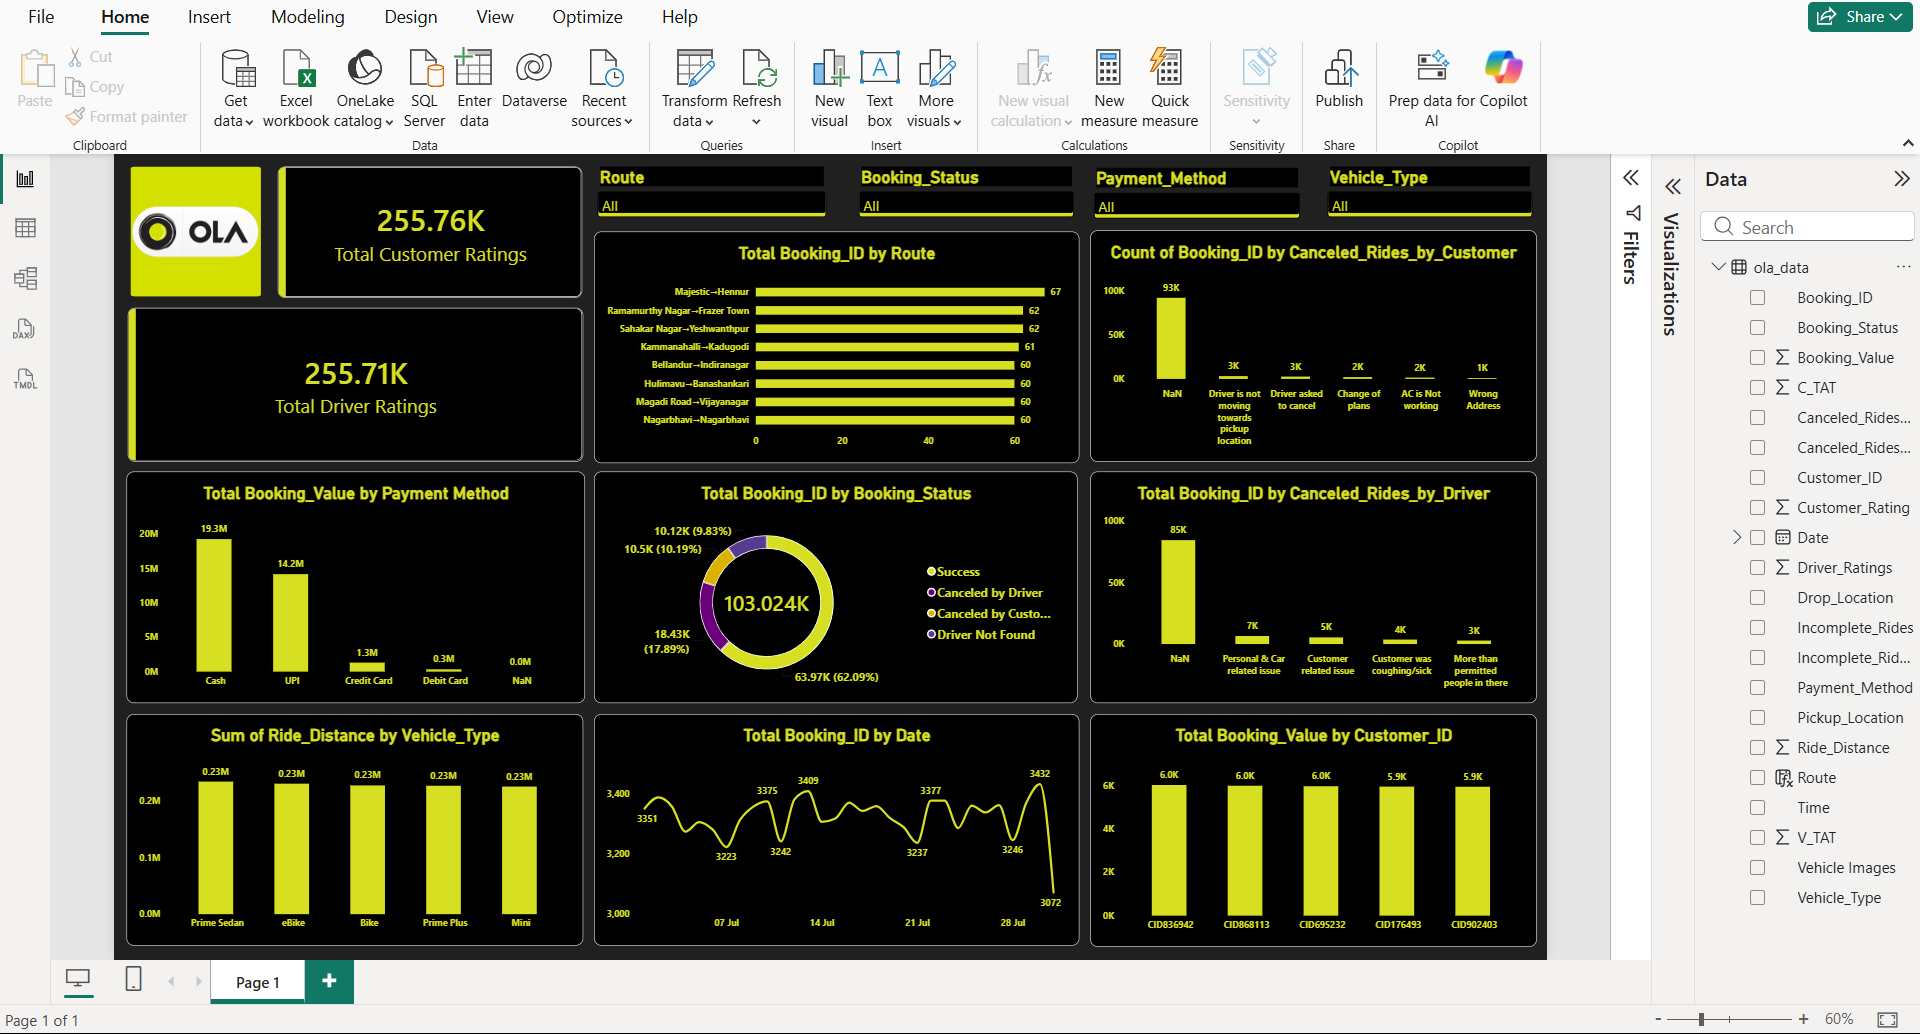

What the dashboard file says about the page in this screenshot:
{"tool":"powerbi","page":{"name":"Page 1","canvas":[1920,1080],"ordinal":0},"visuals":[{"type":"lineChart","title":"Total Booking_ID by Date","fields":{"Y":["CountNonNull(ola_data.Booking_ID)"],"Category":["ola_data.Date.Variation.Date Hierarchy.Year","ola_data.Date.Variation.Date Hierarchy.Quarter","ola_data.Date.Variation.Date Hierarchy.Month","ola_data.Date.Variation.Date Hierarchy.Day"]},"box":[644,750,650,310],"z":0},{"type":"donutChart","title":"Total Booking_ID by Booking_Status","fields":{"Category":["ola_data.Booking_Status"],"Y":["CountNonNull(ola_data.Booking_ID)"]},"box":[644,426,648,310],"z":1000},{"type":"slicer","fields":{"Values":["ola_data.Vehicle_Type"]},"box":[1622,16,284,70],"z":2000},{"type":"clusteredColumnChart","fields":{"Y":["Sum(ola_data.Ride_Distance)"],"Category":["ola_data.Vehicle_Type"]},"box":[16,750,612,310],"z":3000},{"type":"columnChart","title":"Total Booking_Value by Payment Method","fields":{"Y":["Sum(ola_data.Booking_Value)"],"Category":["ola_data.Payment_Method"]},"box":[16,426,614,310],"z":4000},{"type":"clusteredColumnChart","title":"Total Booking_Value by Customer_ID","fields":{"Y":["Sum(ola_data.Booking_Value)"],"Category":["ola_data.Customer_ID"]},"box":[1308,750,598,312],"z":5000},{"type":"cardVisual","fields":{"Data":["Sum(ola_data.Driver_Ratings)"]},"box":[18,206,610,206],"z":6000},{"type":"cardVisual","fields":{"Data":["Sum(ola_data.Customer_Rating)"]},"box":[220,16,408,176],"z":7000},{"type":"columnChart","fields":{"Category":["ola_data.Canceled_Rides_by_Customer"],"Y":["CountNonNull(ola_data.Booking_ID)"]},"box":[1308,102,598,310],"z":8000},{"type":"columnChart","title":"Total Booking_ID by Canceled_Rides_by_Driver","fields":{"Category":["ola_data.Canceled_Rides_by_Driver"],"Y":["CountNonNull(ola_data.Booking_ID)"]},"box":[1308,426,598,310],"z":9000},{"type":"slicer","fields":{"Values":["ola_data.Booking_Status"]},"box":[994,16,298,70],"z":10000},{"type":"slicer","fields":{"Values":["ola_data.Payment_Method"]},"box":[1308,18,286,70],"z":11000},{"type":"clusteredBarChart","title":"Total Booking_ID by Route","fields":{"Category":["ola_data.Route"],"Y":["CountNonNull(ola_data.Booking_ID)"]},"box":[644,104,650,310],"z":12000},{"type":"slicer","fields":{"Values":["ola_data.Route"]},"box":[644,16,316,70],"z":13000},{"type":"image","box":[18,16,182,174],"z":14000}]}

Visuals, with their boxes on the page's 1920x1080 design canvas (x1, y1, x2, y2). These are canvas units, not pixel positions in the 1920x1034 screenshot, which may show the page scaled, cropped or inside an application window:
"Total Booking_ID by Date" lineChart: l=644, t=750, r=1294, b=1060
"Total Booking_ID by Booking_Status" donutChart: l=644, t=426, r=1292, b=736
slicer - ola_data.Vehicle_Type: l=1622, t=16, r=1906, b=86
clusteredColumnChart - Sum(ola_data.Ride_Distance) x ola_data.Vehicle_Type: l=16, t=750, r=628, b=1060
"Total Booking_Value by Payment Method" columnChart: l=16, t=426, r=630, b=736
"Total Booking_Value by Customer_ID" clusteredColumnChart: l=1308, t=750, r=1906, b=1062
cardVisual - Sum(ola_data.Driver_Ratings): l=18, t=206, r=628, b=412
cardVisual - Sum(ola_data.Customer_Rating): l=220, t=16, r=628, b=192
columnChart - ola_data.Canceled_Rides_by_Customer x CountNonNull(ola_data.Booking_ID): l=1308, t=102, r=1906, b=412
"Total Booking_ID by Canceled_Rides_by_Driver" columnChart: l=1308, t=426, r=1906, b=736
slicer - ola_data.Booking_Status: l=994, t=16, r=1292, b=86
slicer - ola_data.Payment_Method: l=1308, t=18, r=1594, b=88
"Total Booking_ID by Route" clusteredBarChart: l=644, t=104, r=1294, b=414
slicer - ola_data.Route: l=644, t=16, r=960, b=86
image: l=18, t=16, r=200, b=190
